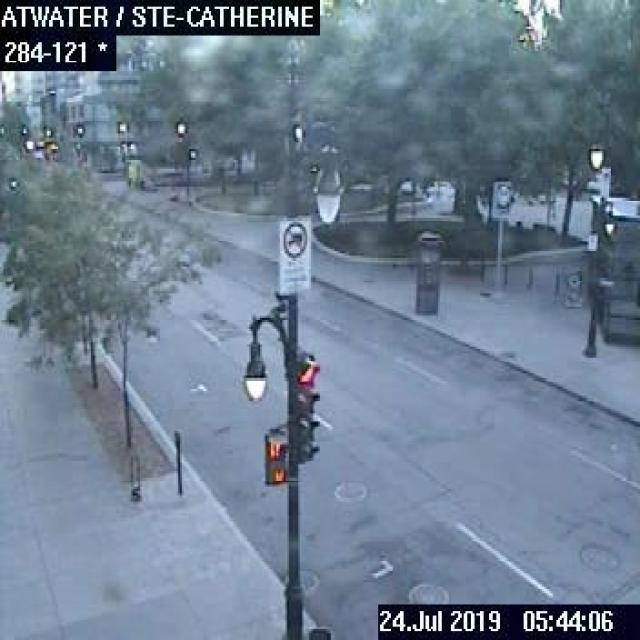pedestrian: (134, 176, 146, 187)
